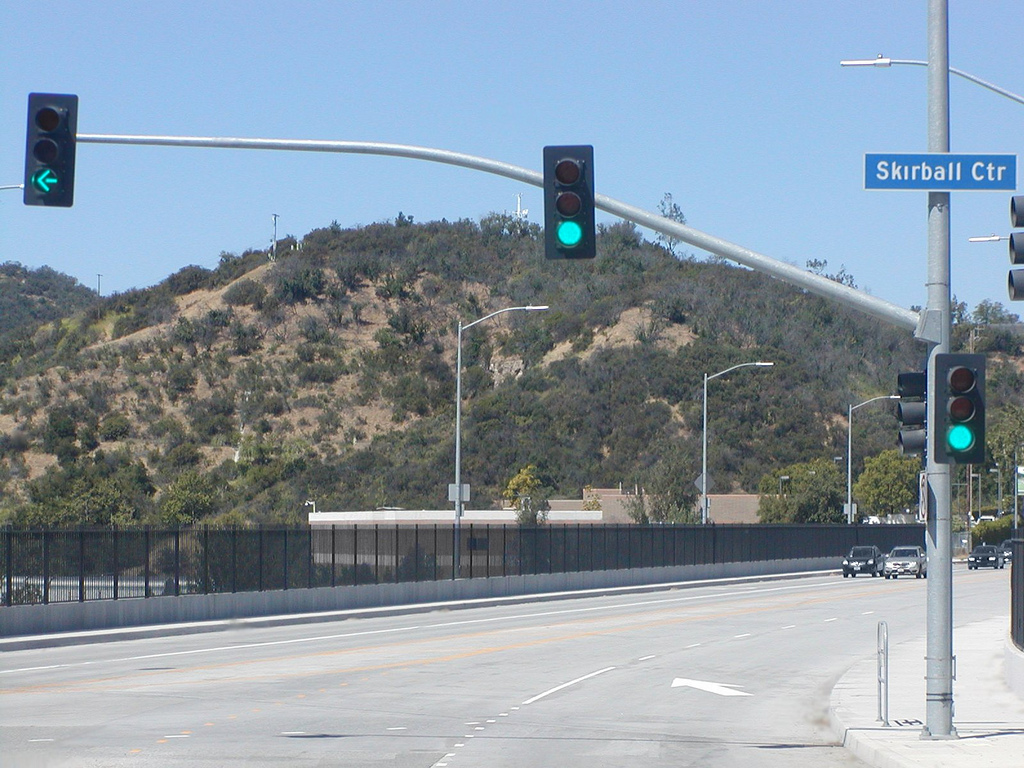traffic_light: (20, 90, 81, 210), (540, 143, 599, 263)
